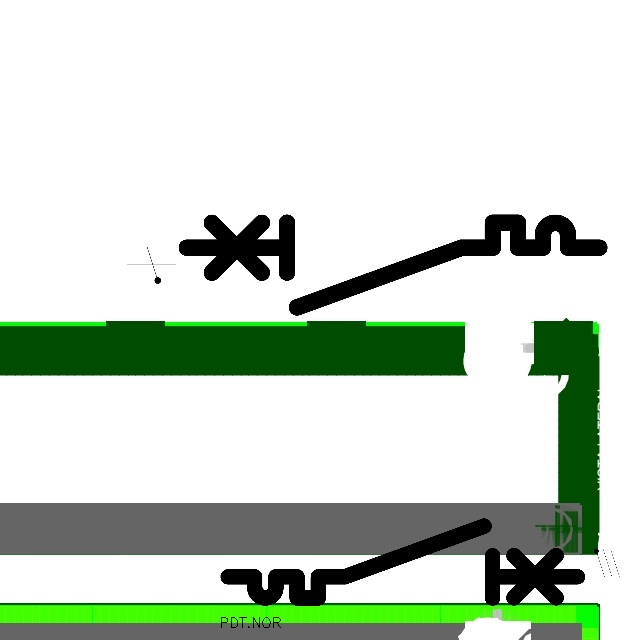interruptor_termomagnetico: (176, 212, 610, 318), (219, 517, 586, 607)
